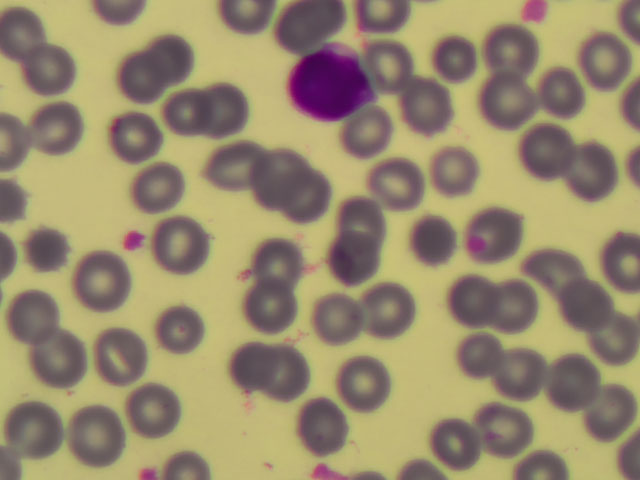Platelets: (285, 461, 351, 480), (516, 1, 547, 25), (119, 227, 146, 250), (137, 462, 161, 480)
RBC: (23, 44, 76, 96), (114, 56, 167, 108), (144, 32, 197, 84), (158, 88, 211, 140), (195, 84, 248, 136), (110, 111, 163, 163), (35, 101, 88, 153), (135, 162, 188, 214), (153, 219, 206, 271), (206, 138, 259, 190), (249, 147, 302, 199), (276, 171, 329, 223), (255, 235, 308, 287), (245, 285, 298, 337), (155, 304, 208, 356), (91, 328, 144, 380), (30, 329, 83, 381), (6, 289, 59, 341), (23, 224, 76, 276), (72, 250, 125, 302), (307, 294, 360, 346), (331, 235, 384, 287), (340, 186, 393, 238), (371, 161, 424, 213), (340, 113, 393, 165), (401, 83, 454, 135), (365, 38, 418, 90), (427, 28, 480, 80), (275, 1, 328, 53), (483, 22, 536, 74), (484, 75, 537, 127), (484, 76, 537, 128), (536, 66, 589, 118), (516, 125, 569, 177), (571, 146, 624, 198), (468, 214, 521, 266), (409, 219, 462, 271), (437, 149, 490, 201), (440, 277, 493, 329), (481, 279, 534, 331), (528, 241, 581, 293), (552, 278, 605, 330), (587, 317, 640, 369), (541, 355, 594, 407), (587, 386, 640, 438), (492, 352, 545, 404), (453, 330, 506, 382), (480, 403, 533, 455), (431, 420, 484, 472), (338, 357, 391, 409), (294, 401, 347, 453), (268, 344, 321, 396), (223, 341, 276, 393), (131, 387, 184, 439), (68, 408, 121, 460), (8, 400, 61, 452), (1, 2, 53, 54)
WBC: (284, 43, 375, 122)
